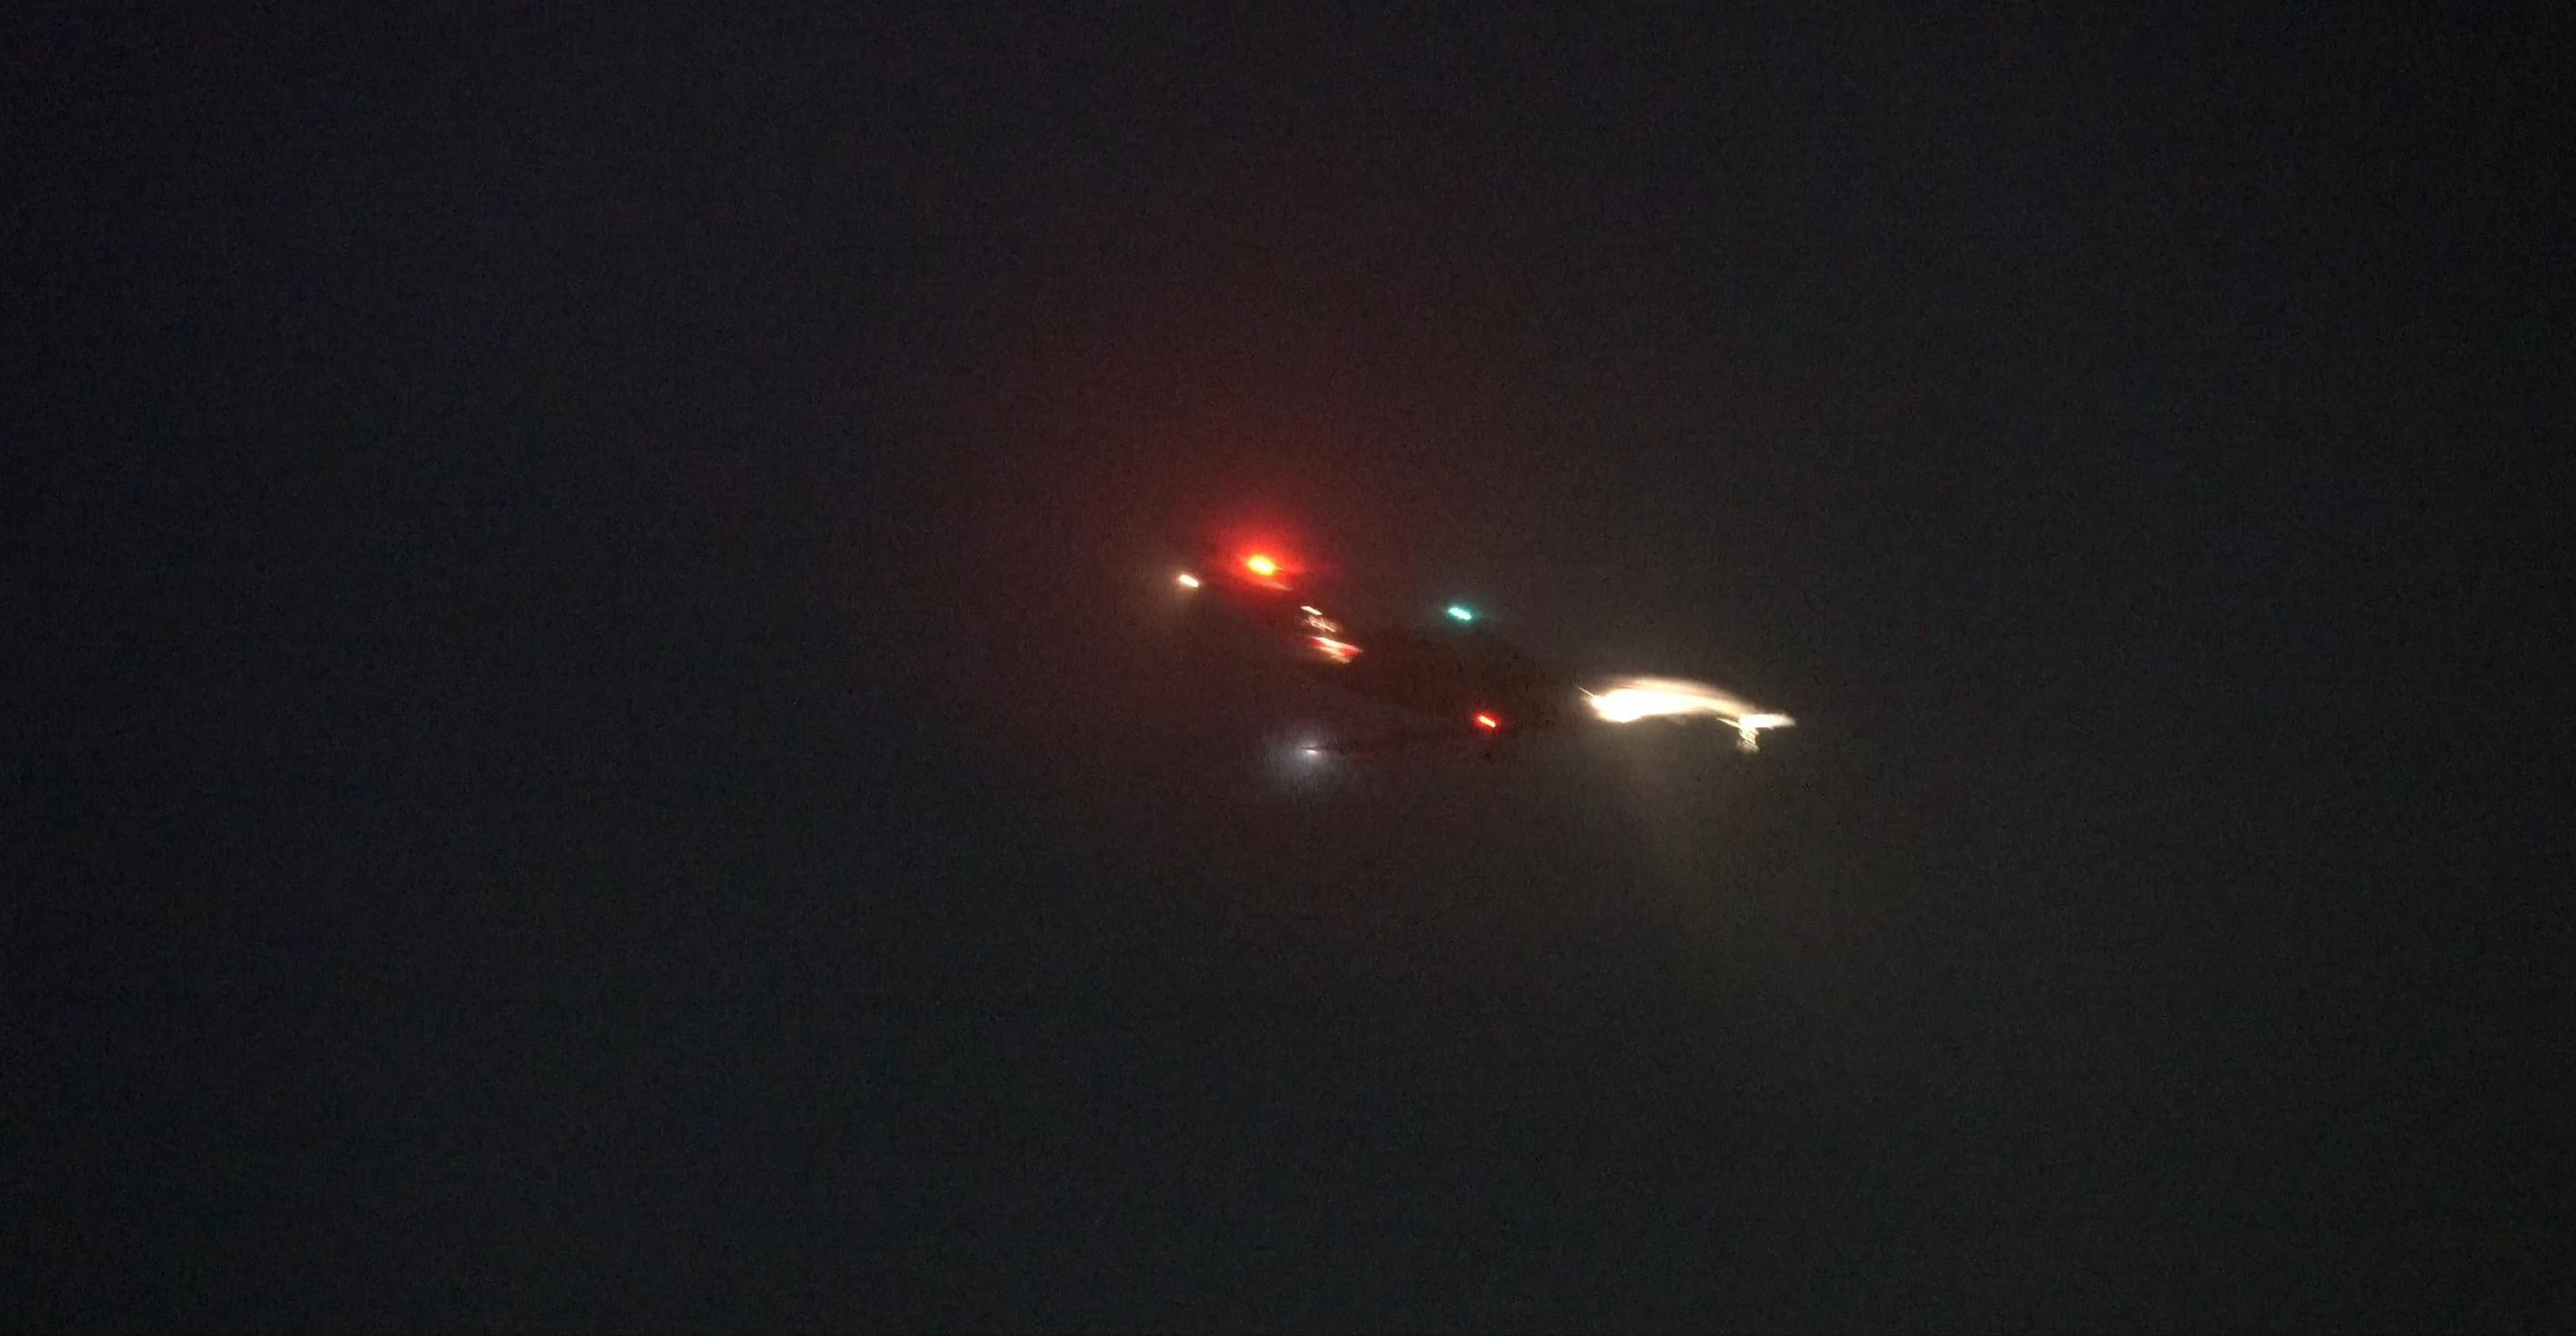Plane: (1159, 511, 1796, 825)
